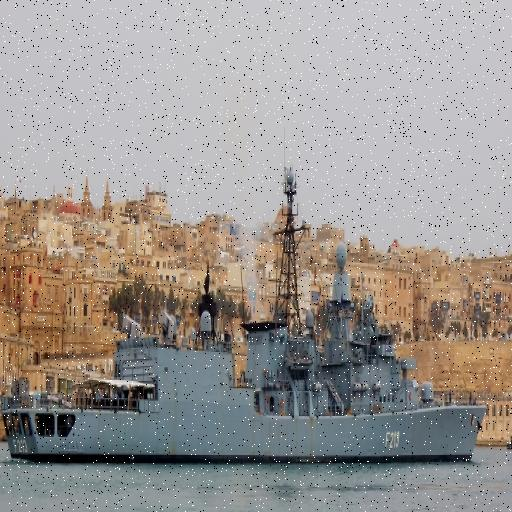Fragata: (1, 149, 489, 469)
